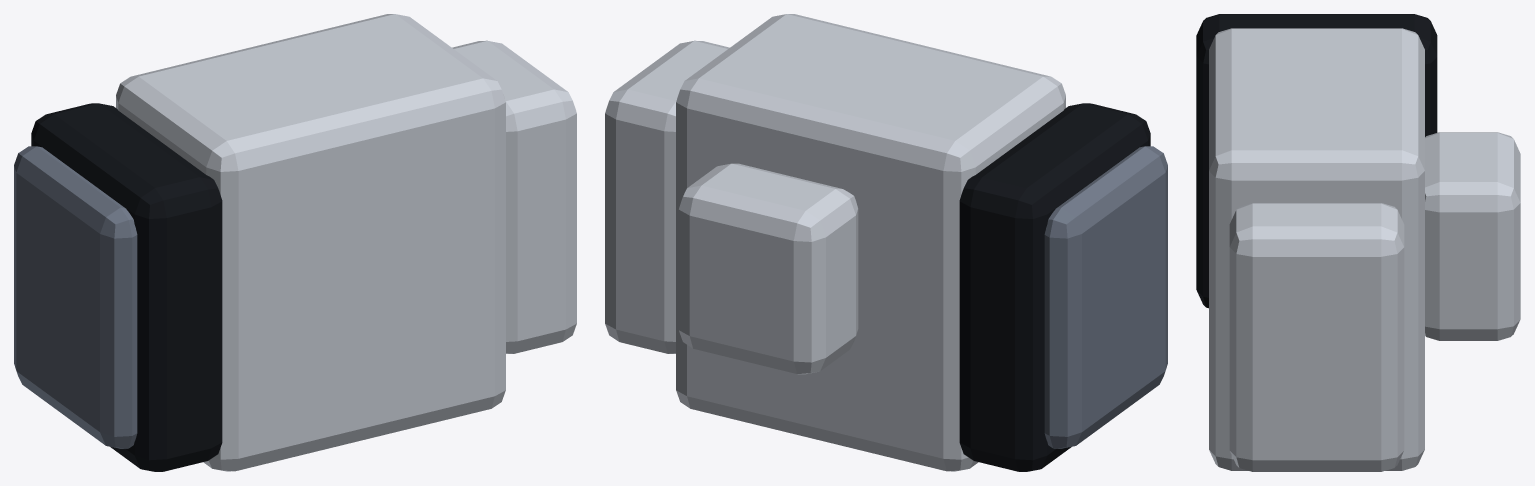
The model's file is avatar-hand-l.glb.
The picture shows the model from 3 angles, left to right: view 1: azimuth 30°, elevation 25°; view 2: azimuth 150°, elevation 25°; view 3: azimuth 270°, elevation 25°; orthographic projection. The views are drawn at different scales.
Visible parts, largest first — view 1: avatar-hand-l; view 2: avatar-hand-l; view 3: avatar-hand-l.
Part boxes in pixels (x1,y1,x2,y2): avatar-hand-l: (14, 14, 576, 471); avatar-hand-l: (605, 14, 1167, 471); avatar-hand-l: (1196, 14, 1520, 471).
Bounding box in the file's own units: 0.26 × 0.17 × 0.156.
